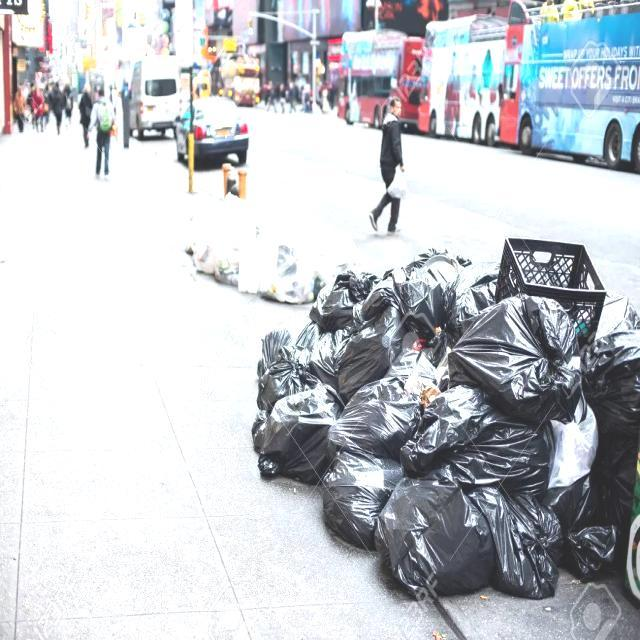high trash: (252, 239, 640, 631)
